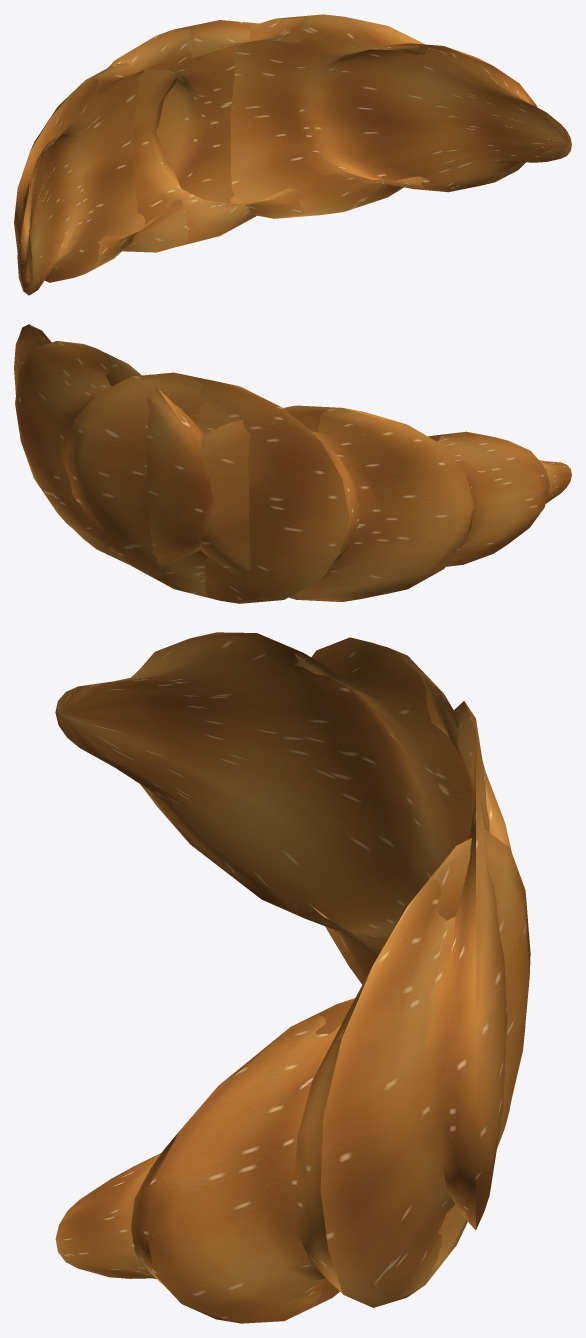
Rendered from bakery_croissant.glb.
3 renders of one model, top to bottom at view 1: azimuth 30°, elevation 25°; view 2: azimuth 150°, elevation 25°; view 3: azimuth 270°, elevation 25°, orthographic. The views are drawn at different scales.
Parts seen in each view (by area): view 1: bakery_croissant; view 2: bakery_croissant; view 3: bakery_croissant.
Part boxes in pixels (bbox=[...]): bakery_croissant: bbox=[14, 14, 571, 295]; bakery_croissant: bbox=[14, 324, 571, 603]; bakery_croissant: bbox=[55, 632, 530, 1323].
Bounding box in the file's own units: 0.1584 × 0.0613 × 0.0604.
1 material, 1 textured.
